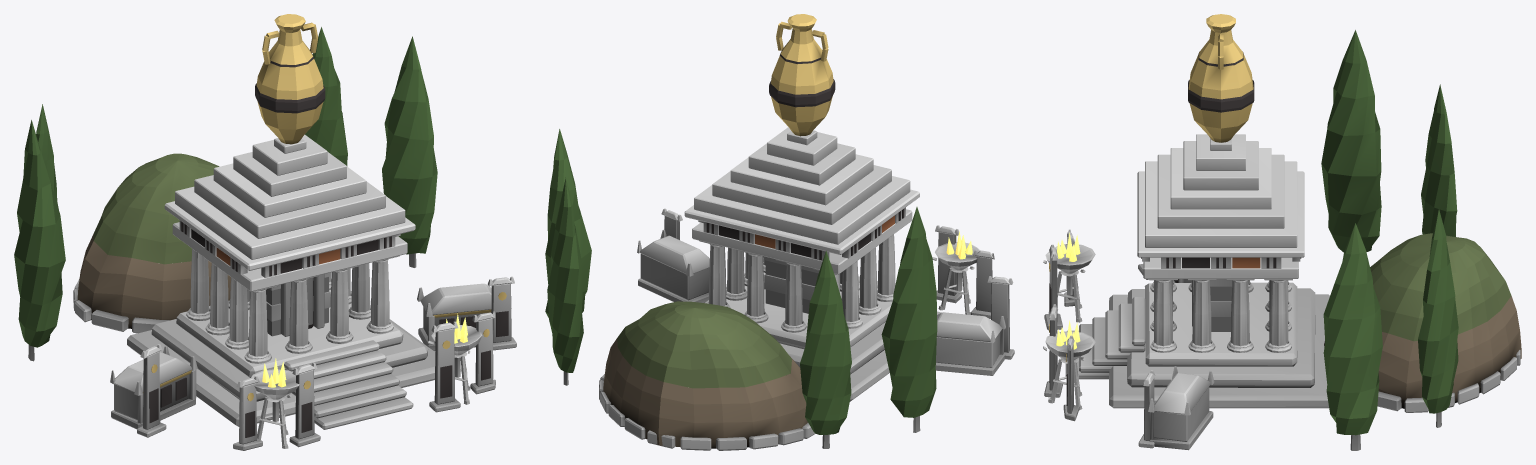
Rendered from tombs-of-erebus-l2.glb.
3 views of the same model, side by side, from view 1: azimuth 30°, elevation 25°; view 2: azimuth 150°, elevation 25°; view 3: azimuth 270°, elevation 25° (orthographic). The views are drawn at different scales.
Visible parts, largest first — view 1: tombs-of-erebus-l2; view 2: tombs-of-erebus-l2; view 3: tombs-of-erebus-l2.
Part boxes in pixels (box(x1,y1,x2,y2)): tombs-of-erebus-l2: box(14, 14, 516, 450); tombs-of-erebus-l2: box(545, 14, 1014, 450); tombs-of-erebus-l2: box(1043, 14, 1521, 450).
Bounding box in the file's own units: 1.5 × 1.2 × 1.53.
